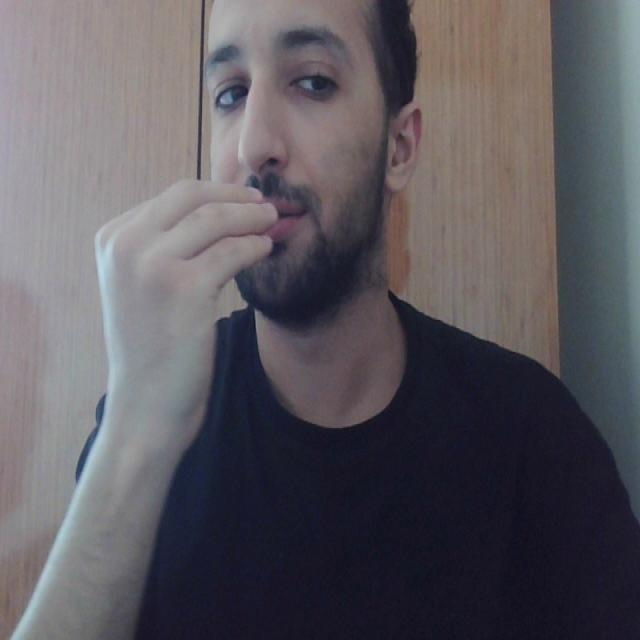Yemek: (73, 172, 284, 282)
